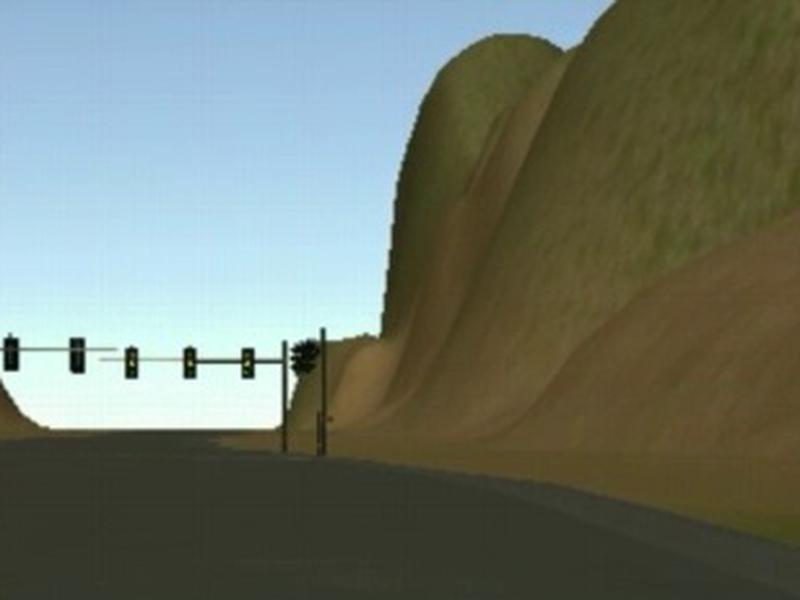Yellow: (182, 345, 196, 378), (241, 348, 255, 378), (124, 347, 137, 377)
